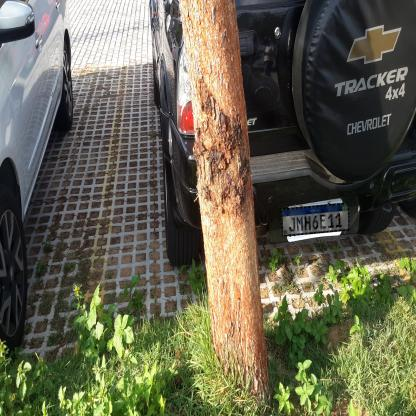PlacaM: (281, 202, 350, 236)
